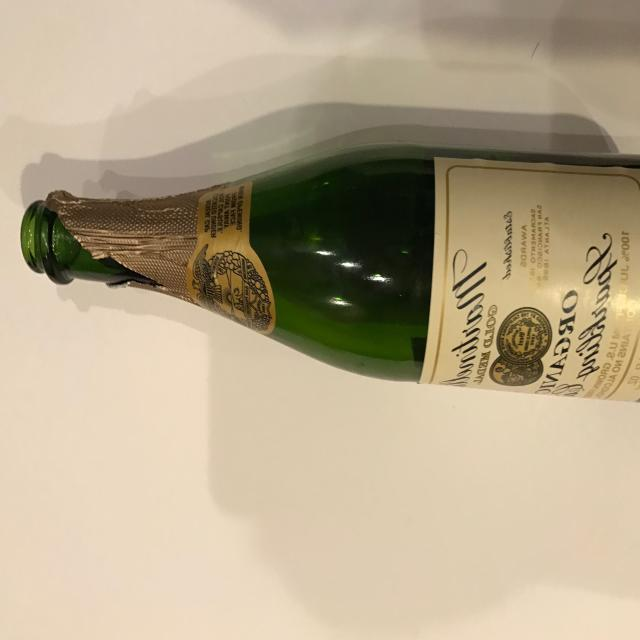glass: (15, 94, 640, 452)
